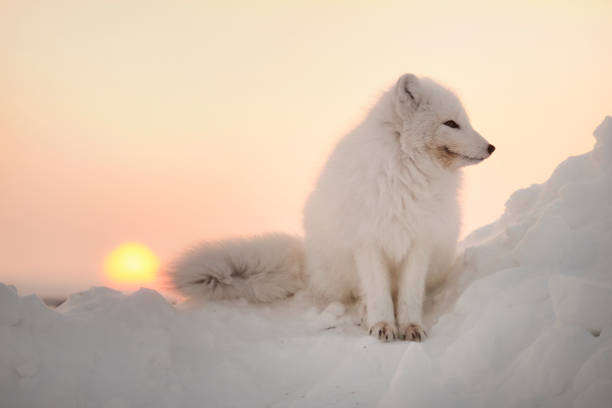arcticfox: (403, 84, 506, 189)
